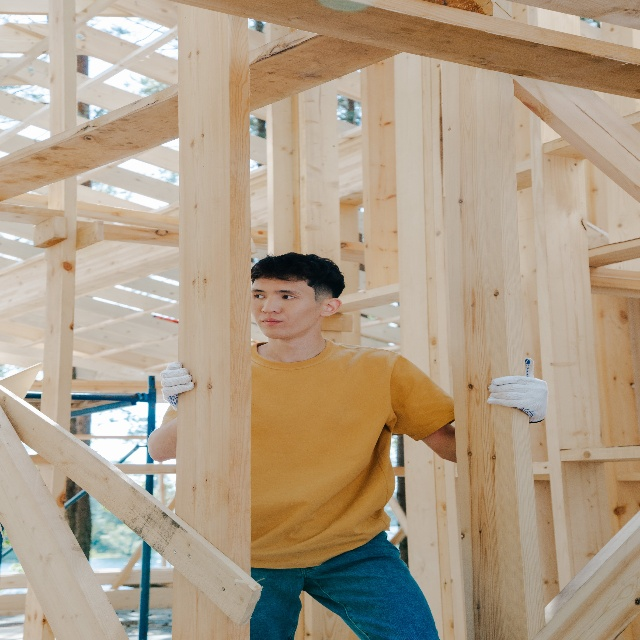Guantes: (486, 376, 549, 423), (159, 361, 193, 404)
